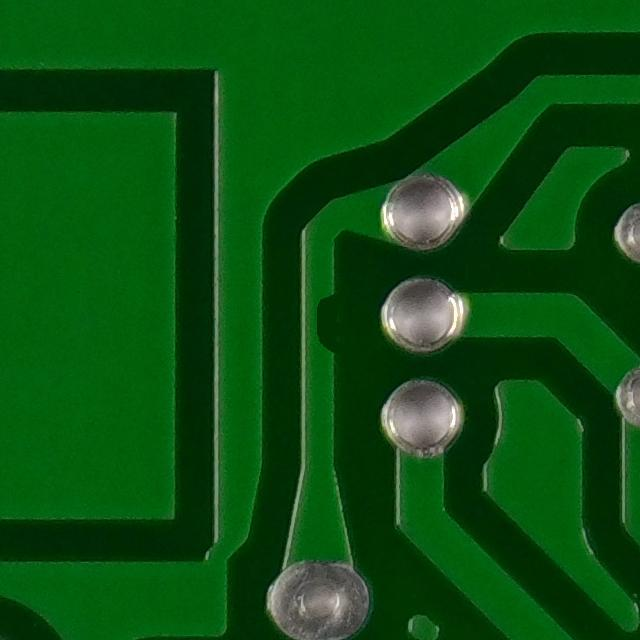mouse_bite: (282, 276, 359, 364)
